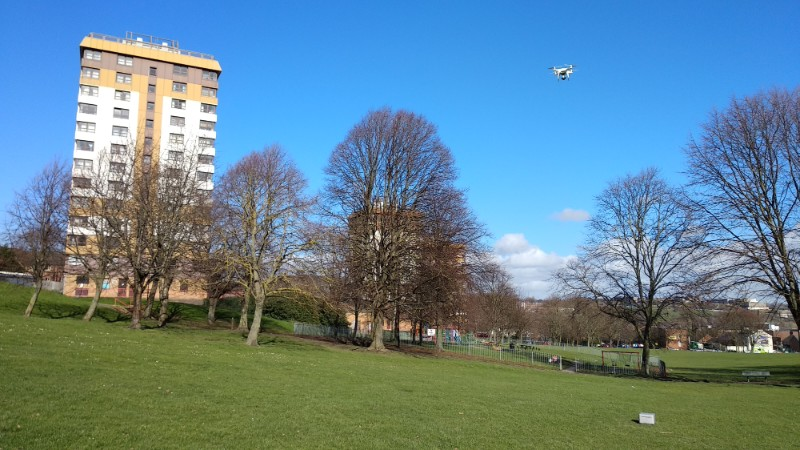drone: (547, 64, 581, 83)
